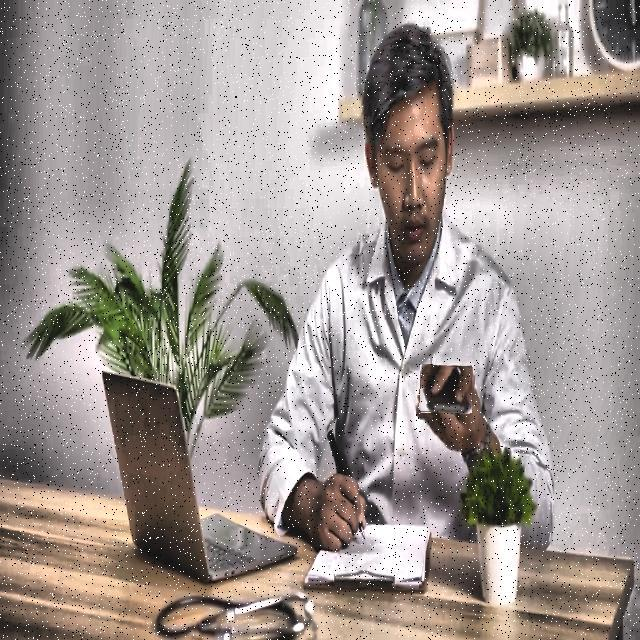Phone: (420, 364, 472, 414)
